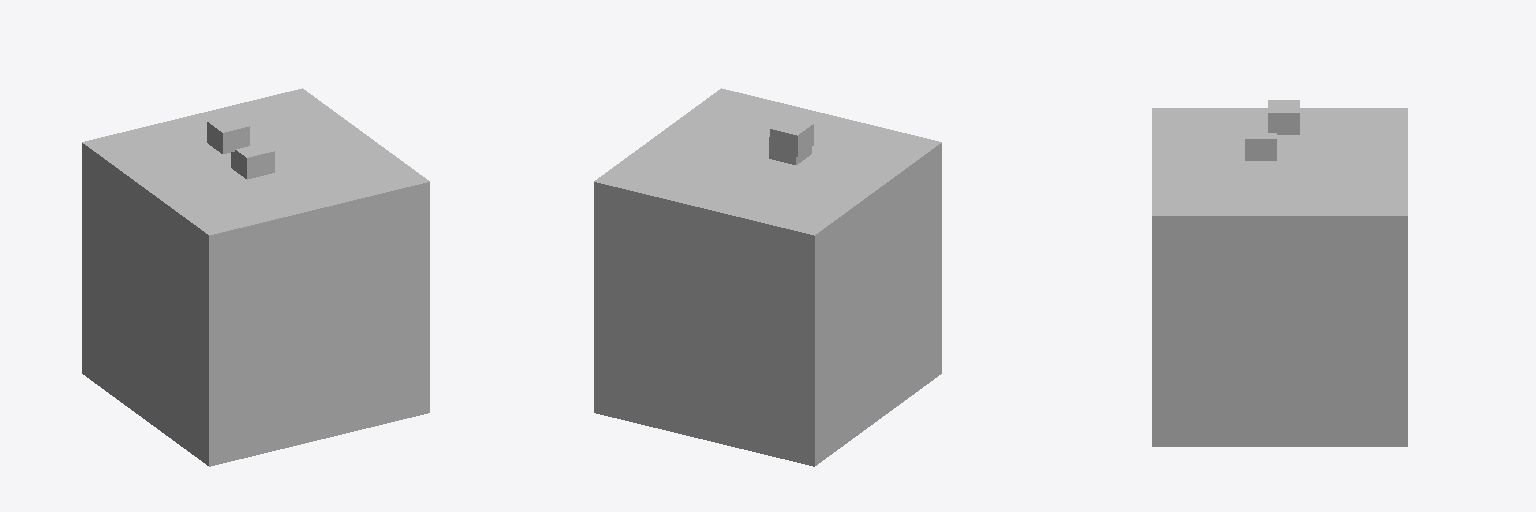
Rendered from ArbolPlataform.obj.
3 renders of one model, left to right at view 1: azimuth 30°, elevation 25°; view 2: azimuth 150°, elevation 25°; view 3: azimuth 270°, elevation 25°, orthographic.
Visible parts, largest first — view 1: Cube; view 2: Cube; view 3: Cube.
Boxes of the visible parts, box(x1,y1,x2,y2) form: Cube: box(82, 88, 429, 466); Cube: box(594, 88, 941, 466); Cube: box(1152, 108, 1407, 446).
Bounding box in the file's own units: 1 × 1.19 × 1.